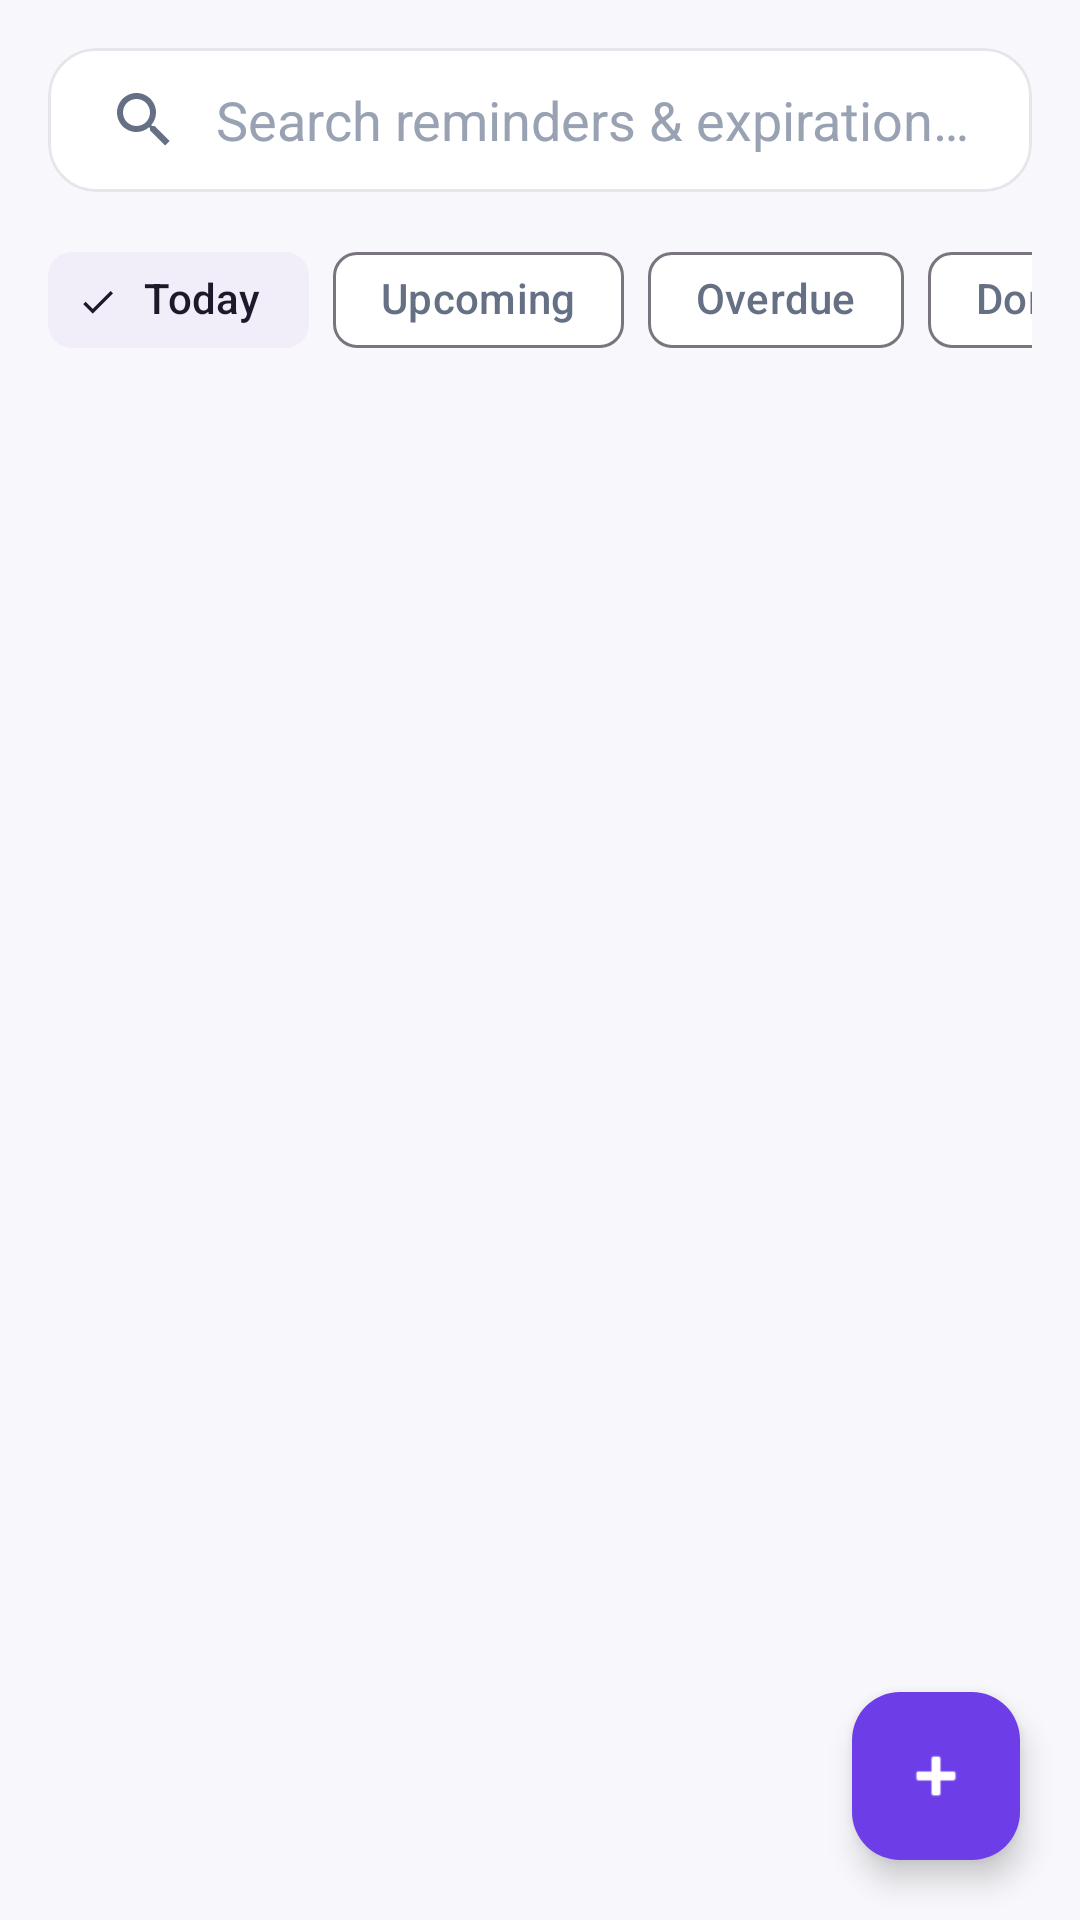

Icon click points for this 1080w x 1920h phone screenshot, format (x,y):
Add Reminder: (936,1776)
